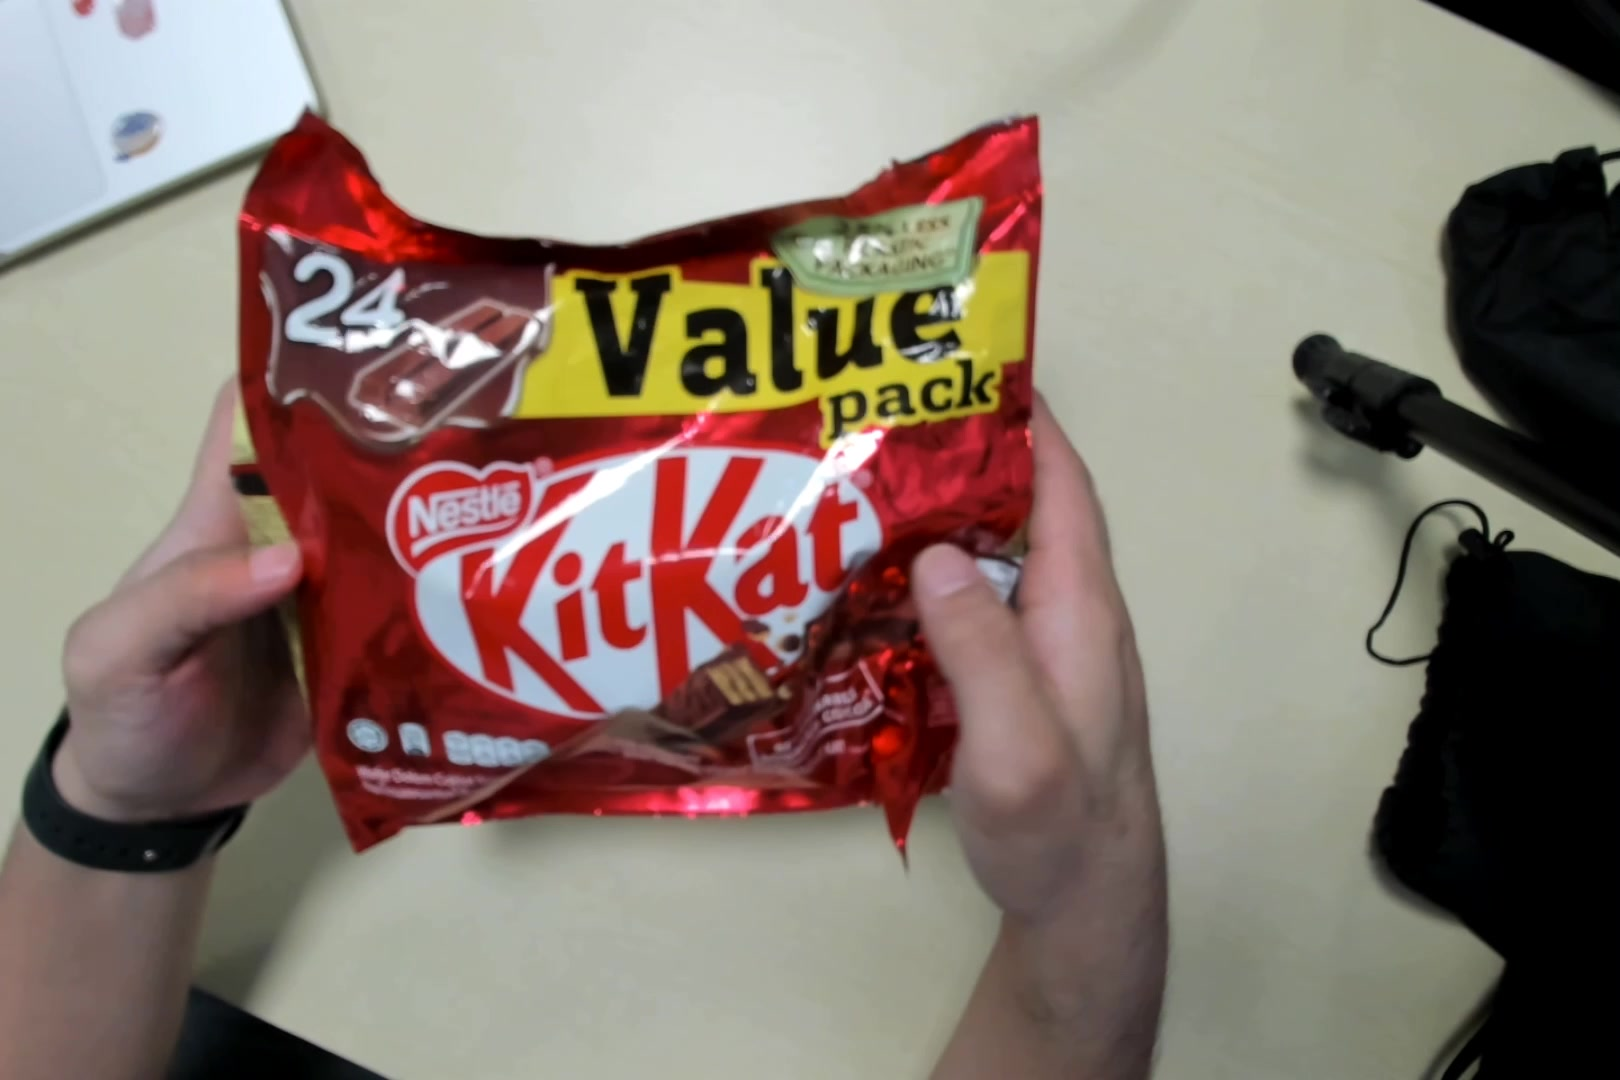SweetsChocolatesOthers_400-499g_Halal_NonHealthy: (234, 139, 1041, 849)
